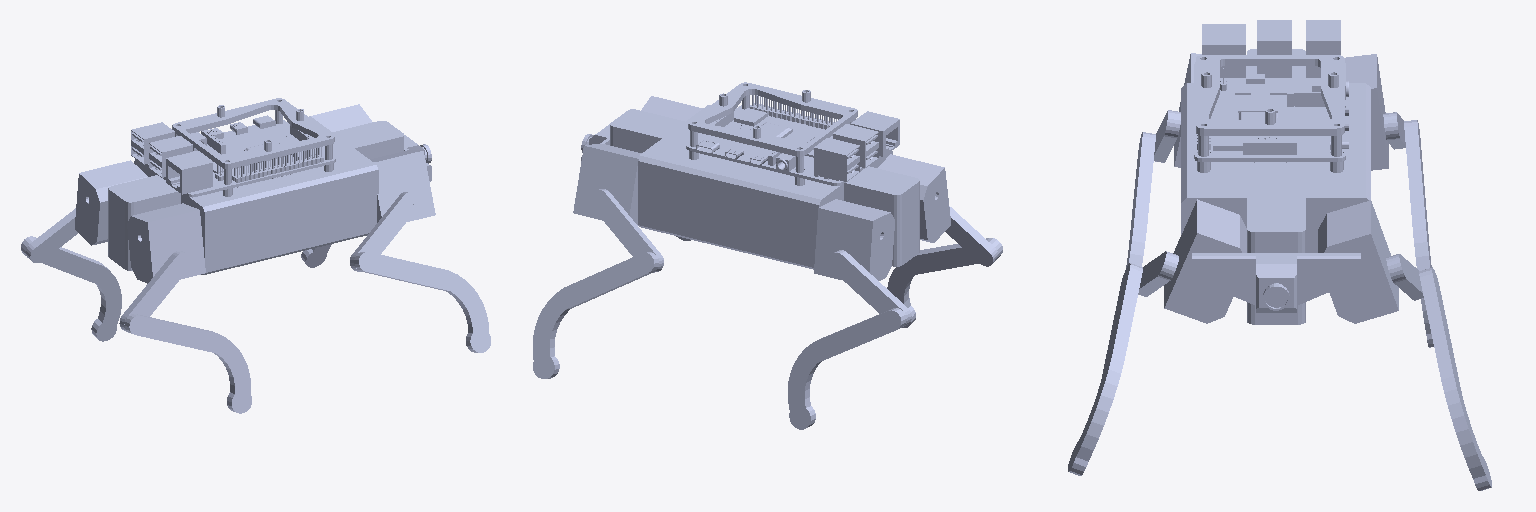
URDF robot description (assemblyURDF_sim_v3):
<?xml version="1.0" encoding="utf-8"?>
<!-- This URDF was automatically created by SolidWorks to URDF Exporter! Originally created by [author] ([email redacted]) 
     Commit Version: 1.6.0-4-g7f85cfe  Build Version: 1.6.7995.38578
     For more information, please see http://wiki.ros.org/sw_urdf_exporter -->
<robot
  name="assemblyURDF_sim_v3">
  <link
    name="base_link">
    <inertial>
      <origin
        xyz="-0.000611071768748985 0.00203532044672235 0.0265273092708457"
        rpy="0 0 0" />
      <mass
        value="0.382892713953797" />
      <inertia
        ixx="0.000156565489281089"
        ixy="-1.32820000526297E-08"
        ixz="7.17644779222563E-08"
        iyy="0.00048093929718436"
        iyz="2.35566435641254E-08"
        izz="0.000561518702693004" />
    </inertial>
    <visual>
      <origin
        xyz="0 0 0"
        rpy="0 0 0" />
      <geometry>
        <mesh
          filename="package://robot_model/meshes/base_link.STL" />
      </geometry>
      <material
        name="">
        <color
          rgba="0.792156862745098 0.819607843137255 0.933333333333333 1" />
      </material>
    </visual>
    <collision>
      <origin
        xyz="0 0 0"
        rpy="0 0 0" />
      <geometry>
        <mesh
          filename="package://robot_model/meshes/base_link.STL" />
      </geometry>
    </collision>
  </link>
  <link
    name="servo_1_link">
    <inertial>
      <origin
        xyz="0.015 -0.00663800305531337 -0.000639346575707883"
        rpy="0 0 0" />
      <mass
        value="0.020715840734641" />
      <inertia
        ixx="2.6167090766202E-06"
        ixy="-3.99388019611031E-22"
        ixz="-1.93943886813963E-22"
        iyy="2.36925699275785E-06"
        iyz="6.93288358194387E-09"
        izz="3.34552907980387E-06" />
    </inertial>
    <visual>
      <origin
        xyz="0 0 0"
        rpy="0 0 0" />
      <geometry>
        <mesh
          filename="package://robot_model/meshes/servo_1_link.STL" />
      </geometry>
      <material
        name="">
        <color
          rgba="0.792156862745098 0.819607843137255 0.933333333333333 1" />
      </material>
    </visual>
    <collision>
      <origin
        xyz="0 0 0"
        rpy="0 0 0" />
      <geometry>
        <mesh
          filename="package://robot_model/meshes/servo_1_link.STL" />
      </geometry>
    </collision>
  </link>
  <joint
    name="servo_1_joint"
    type="continuous">
    <origin
      xyz="0.0492951218109149 -0.0235467065517865 0.024"
      rpy="1.19325088290338 0 0" />
    <parent
      link="base_link" />
    <child
      link="servo_1_link" />
    <axis
      xyz="1 0 0" />
  </joint>
  <link
    name="leg_1_link">
    <inertial>
      <origin
        xyz="-0.02 -6.78276879106932E-14 0.0153039721883448"
        rpy="0 0 0" />
      <mass
        value="0.00226703537555513" />
      <inertia
        ixx="2.37183625868799E-08"
        ixy="-1.32288017515401E-18"
        ixz="8.31316515615793E-23"
        iyy="4.13865846142266E-07"
        iyz="-6.61744490042422E-24"
        izz="4.28138227997666E-07" />
    </inertial>
    <visual>
      <origin
        xyz="0 0 0"
        rpy="0 0 0" />
      <geometry>
        <mesh
          filename="package://robot_model/meshes/leg_1_link.STL" />
      </geometry>
      <material
        name="">
        <color
          rgba="0.792156862745098 0.819607843137255 0.933333333333333 1" />
      </material>
    </visual>
    <collision>
      <origin
        xyz="0 0 0"
        rpy="0 0 0" />
      <geometry>
        <mesh
          filename="package://robot_model/meshes/leg_1_link.STL" />
      </geometry>
    </collision>
  </link>
  <joint
    name="leg_2_joint"
    type="continuous">
    <origin
      xyz="0.015 -0.013 -0.00280397218834483"
      rpy="0 0 0.625000267634323" />
    <parent
      link="servo_1_link" />
    <child
      link="leg_1_link" />
    <axis
      xyz="0 0 -1" />
  </joint>
  <link
    name="foot_1_link">
    <inertial>
      <origin
        xyz="0.0396009603573879 0.00562254465841069 -0.0302219540967466"
        rpy="0 0 0" />
      <mass
        value="0.00466853888839397" />
      <inertia
        ixx="4.20913564361034E-07"
        ixy="-7.492517540195E-07"
        ixz="1.24410086133859E-08"
        iyy="2.75704387624934E-06"
        iyz="1.76637449933399E-09"
        izz="3.15540588393019E-06" />
    </inertial>
    <visual>
      <origin
        xyz="0 0 0"
        rpy="0 0 0" />
      <geometry>
        <mesh
          filename="package://robot_model/meshes/foot_1_link.STL" />
      </geometry>
      <material
        name="">
        <color
          rgba="0.792156862745098 0.819607843137255 0.933333333333333 1" />
      </material>
    </visual>
    <collision>
      <origin
        xyz="0 0 0"
        rpy="0 0 0" />
      <geometry>
        <mesh
          filename="package://robot_model/meshes/foot_1_link.STL" />
      </geometry>
    </collision>
  </link>
  <joint
    name="foot_1_joint"
    type="continuous">
    <origin
      xyz="-0.04 0 -0.00998527475373712"
      rpy="3.14159265358979 0 -1.04037357500652" />
    <parent
      link="leg_1_link" />
    <child
      link="foot_1_link" />
    <axis
      xyz="0 0 1" />
  </joint>
  <link
    name="servo_2_link">
    <inertial>
      <origin
        xyz="-0.015 -0.00663800305531345 -0.000639346575707883"
        rpy="0 0 0" />
      <mass
        value="0.020715840734641" />
      <inertia
        ixx="2.6167090766202E-06"
        ixy="2.97650390182204E-22"
        ixz="-5.69866571425958E-23"
        iyy="2.36925699275785E-06"
        iyz="6.93288358194493E-09"
        izz="3.34552907980387E-06" />
    </inertial>
    <visual>
      <origin
        xyz="0 0 0"
        rpy="0 0 0" />
      <geometry>
        <mesh
          filename="package://robot_model/meshes/servo_2_link.STL" />
      </geometry>
      <material
        name="">
        <color
          rgba="0.792156862745098 0.819607843137255 0.933333333333333 1" />
      </material>
    </visual>
    <collision>
      <origin
        xyz="0 0 0"
        rpy="0 0 0" />
      <geometry>
        <mesh
          filename="package://robot_model/meshes/servo_2_link.STL" />
      </geometry>
    </collision>
  </link>
  <joint
    name="servo_2_joint"
    type="continuous">
    <origin
      xyz="-0.0507048781890851 -0.0235467065517864 0.024"
      rpy="1.38644147063987 0 0" />
    <parent
      link="base_link" />
    <child
      link="servo_2_link" />
    <axis
      xyz="1 0 0" />
  </joint>
  <link
    name="leg_2_link">
    <inertial>
      <origin
        xyz="-0.0199999999999991 -2.4980018054066E-16 0.00951738563424648"
        rpy="0 0 0" />
      <mass
        value="0.00226703537555513" />
      <inertia
        ixx="2.37183625868801E-08"
        ixy="2.24993126614424E-22"
        ixz="-1.55923545466246E-22"
        iyy="4.13865846142267E-07"
        iyz="-1.32348898008484E-23"
        izz="4.28138227997667E-07" />
    </inertial>
    <visual>
      <origin
        xyz="0 0 0"
        rpy="0 0 0" />
      <geometry>
        <mesh
          filename="package://robot_model/meshes/leg_2_link.STL" />
      </geometry>
      <material
        name="">
        <color
          rgba="0.792156862745098 0.819607843137255 0.933333333333333 1" />
      </material>
    </visual>
    <collision>
      <origin
        xyz="0 0 0"
        rpy="0 0 0" />
      <geometry>
        <mesh
          filename="package://robot_model/meshes/leg_2_link.STL" />
      </geometry>
    </collision>
  </link>
  <joint
    name="leg_2_joint"
    type="continuous">
    <origin
      xyz="-0.015 -0.013 0.00298261436575352"
      rpy="0 0 0.671619943025242" />
    <parent
      link="servo_2_link" />
    <child
      link="leg_2_link" />
    <axis
      xyz="0 0 -1" />
  </joint>
  <link
    name="foot_2_link">
    <inertial>
      <origin
        xyz="0.0396009603573874 0.00562254465841142 -0.0193641895132344"
        rpy="0 0 0" />
      <mass
        value="0.00466853888839397" />
      <inertia
        ixx="4.20913564361033E-07"
        ixy="-7.49251754019497E-07"
        ixz="1.24410086133866E-08"
        iyy="2.75704387624934E-06"
        iyz="1.76637449933423E-09"
        izz="3.15540588393019E-06" />
    </inertial>
    <visual>
      <origin
        xyz="0 0 0"
        rpy="0 0 0" />
      <geometry>
        <mesh
          filename="package://robot_model/meshes/foot_2_link.STL" />
      </geometry>
      <material
        name="">
        <color
          rgba="0.792156862745098 0.819607843137255 0.933333333333333 1" />
      </material>
    </visual>
    <collision>
      <origin
        xyz="0 0 0"
        rpy="0 0 0" />
      <geometry>
        <mesh
          filename="package://robot_model/meshes/foot_2_link.STL" />
      </geometry>
    </collision>
  </link>
  <joint
    name="foot_2_joint"
    type="continuous">
    <origin
      xyz="-0.0399999999999991 0 -0.0049140967243233"
      rpy="-3.14159265358979 0 -1.08209164870542" />
    <parent
      link="leg_2_link" />
    <child
      link="foot_2_link" />
    <axis
      xyz="0 0 1" />
  </joint>
  <link
    name="servo_3_link">
    <inertial>
      <origin
        xyz="0.015 -0.00663800305531345 -0.000639346575707883"
        rpy="0 0 0" />
      <mass
        value="0.020715840734641" />
      <inertia
        ixx="2.61670907662019E-06"
        ixy="1.27674811281399E-22"
        ixz="9.63597929477141E-23"
        iyy="2.36925699275785E-06"
        iyz="6.9328835819444E-09"
        izz="3.34552907980387E-06" />
    </inertial>
    <visual>
      <origin
        xyz="0 0 0"
        rpy="0 0 0" />
      <geometry>
        <mesh
          filename="package://robot_model/meshes/servo_3_link.STL" />
      </geometry>
      <material
        name="">
        <color
          rgba="0.792156862745098 0.819607843137255 0.933333333333333 1" />
      </material>
    </visual>
    <collision>
      <origin
        xyz="0 0 0"
        rpy="0 0 0" />
      <geometry>
        <mesh
          filename="package://robot_model/meshes/servo_3_link.STL" />
      </geometry>
    </collision>
  </link>
  <joint
    name="servo_3_joint"
    type="continuous">
    <origin
      xyz="-0.0507048781890851 0.0284532934482131 0.0240000000000004"
      rpy="1.43932790895367 0 3.14159265358979" />
    <parent
      link="base_link" />
    <child
      link="servo_3_link" />
    <axis
      xyz="-1 0 0" />
  </joint>
  <link
    name="leg_3_link">
    <inertial>
      <origin
        xyz="0.02 0 0.00241407702081536"
        rpy="0 0 0" />
      <mass
        value="0.00226703537555514" />
      <inertia
        ixx="2.37183625868801E-08"
        ixy="-1.41447884746568E-22"
        ixz="-4.508134338414E-23"
        iyy="4.13865846142267E-07"
        iyz="-1.32348898008484E-23"
        izz="4.28138227997668E-07" />
    </inertial>
    <visual>
      <origin
        xyz="0 0 0"
        rpy="0 0 0" />
      <geometry>
        <mesh
          filename="package://robot_model/meshes/leg_3_link.STL" />
      </geometry>
      <material
        name="">
        <color
          rgba="0.792156862745098 0.819607843137255 0.933333333333333 1" />
      </material>
    </visual>
    <collision>
      <origin
        xyz="0 0 0"
        rpy="0 0 0" />
      <geometry>
        <mesh
          filename="package://robot_model/meshes/leg_3_link.STL" />
      </geometry>
    </collision>
  </link>
  <joint
    name="leg_3_joint"
    type="continuous">
    <origin
      xyz="0.0149999999999994 -0.0129999999999998 0.0100859229791846"
      rpy="0 0 -0.524206506794894" />
    <parent
      link="servo_3_link" />
    <child
      link="leg_3_link" />
    <axis
      xyz="0 0 1" />
  </joint>
  <link
    name="foot_3_link">
    <inertial>
      <origin
        xyz="-0.0396009603573878 0.00562254465841165 -0.00734678417548039"
        rpy="0 0 0" />
      <mass
        value="0.00466853888839397" />
      <inertia
        ixx="4.20913564361034E-07"
        ixy="7.49251754019498E-07"
        ixz="-1.24410086133875E-08"
        iyy="2.75704387624934E-06"
        iyz="1.76637449933447E-09"
        izz="3.15540588393019E-06" />
    </inertial>
    <visual>
      <origin
        xyz="0 0 0"
        rpy="0 0 0" />
      <geometry>
        <mesh
          filename="package://robot_model/meshes/foot_3_link.STL" />
      </geometry>
      <material
        name="">
        <color
          rgba="0.792156862745098 0.819607843137255 0.933333333333333 1" />
      </material>
    </visual>
    <collision>
      <origin
        xyz="0 0 0"
        rpy="0 0 0" />
      <geometry>
        <mesh
          filename="package://robot_model/meshes/foot_3_link.STL" />
      </geometry>
    </collision>
  </link>
  <joint
    name="foot_3_joint"
    type="continuous">
    <origin
      xyz="0.04 0 0"
      rpy="-3.14159265358979 0 1.07982204879055" />
    <parent
      link="leg_3_link" />
    <child
      link="foot_3_link" />
    <axis
      xyz="0 0 -1" />
  </joint>
  <link
    name="servo_4_link">
    <inertial>
      <origin
        xyz="-0.015 -0.00663800305531342 -0.000639346575707883"
        rpy="0 0 0" />
      <mass
        value="0.020715840734641" />
      <inertia
        ixx="2.6167090766202E-06"
        ixy="-1.00112987012655E-22"
        ixz="1.60304903991326E-22"
        iyy="2.36925699275786E-06"
        iyz="6.93288358194414E-09"
        izz="3.34552907980387E-06" />
    </inertial>
    <visual>
      <origin
        xyz="0 0 0"
        rpy="0 0 0" />
      <geometry>
        <mesh
          filename="package://robot_model/meshes/servo_4_link.STL" />
      </geometry>
      <material
        name="">
        <color
          rgba="0.792156862745098 0.819607843137255 0.933333333333333 1" />
      </material>
    </visual>
    <collision>
      <origin
        xyz="0 0 0"
        rpy="0 0 0" />
      <geometry>
        <mesh
          filename="package://robot_model/meshes/servo_4_link.STL" />
      </geometry>
    </collision>
  </link>
  <joint
    name="servo_4_joints"
    type="continuous">
    <origin
      xyz="0.0492951218109149 0.0284532934482133 0.0239999999999998"
      rpy="1.2521204794546 0 3.14159265358979" />
    <parent
      link="base_link" />
    <child
      link="servo_4_link" />
    <axis
      xyz="-1 0 0" />
  </joint>
  <link
    name="leg_4_link">
    <inertial>
      <origin
        xyz="0.02 0 0.00200918624785887"
        rpy="0 0 0" />
      <mass
        value="0.00226703537555514" />
      <inertia
        ixx="2.37183625868801E-08"
        ixy="5.70754622661589E-23"
        ixz="1.62954580672946E-22"
        iyy="4.13865846142267E-07"
        iyz="-6.61744490042422E-24"
        izz="4.28138227997667E-07" />
    </inertial>
    <visual>
      <origin
        xyz="0 0 0"
        rpy="0 0 0" />
      <geometry>
        <mesh
          filename="package://robot_model/meshes/leg_4_link.STL" />
      </geometry>
      <material
        name="">
        <color
          rgba="0.792156862745098 0.819607843137255 0.933333333333333 1" />
      </material>
    </visual>
    <collision>
      <origin
        xyz="0 0 0"
        rpy="0 0 0" />
      <geometry>
        <mesh
          filename="package://robot_model/meshes/leg_4_link.STL" />
      </geometry>
    </collision>
  </link>
  <joint
    name="leg_4_joint"
    type="continuous">
    <origin
      xyz="-0.0150000000000001 -0.013 0.0104908137521414"
      rpy="0 0 -0.625428082238554" />
    <parent
      link="servo_4_link" />
    <child
      link="leg_4_link" />
    <axis
      xyz="0 0 1" />
  </joint>
  <link
    name="foot_4_link">
    <inertial>
      <origin
        xyz="-0.0396009603573879 0.00562254465841092 -0.00694189340252346"
        rpy="0 0 0" />
      <mass
        value="0.00466853888839397" />
      <inertia
        ixx="4.20913564361033E-07"
        ixy="7.49251754019498E-07"
        ixz="-1.24410086133882E-08"
        iyy="2.75704387624934E-06"
        iyz="1.76637449933426E-09"
        izz="3.15540588393019E-06" />
    </inertial>
    <visual>
      <origin
        xyz="0 0 0"
        rpy="0 0 0" />
      <geometry>
        <mesh
          filename="package://robot_model/meshes/foot_4_link.STL" />
      </geometry>
      <material
        name="">
        <color
          rgba="0.792156862745098 0.819607843137255 0.933333333333333 1" />
      </material>
    </visual>
    <collision>
      <origin
        xyz="0 0 0"
        rpy="0 0 0" />
      <geometry>
        <mesh
          filename="package://robot_model/meshes/foot_4_link.STL" />
      </geometry>
    </collision>
  </link>
  <joint
    name="foot_4_joint"
    type="continuous">
    <origin
      xyz="0.04 0 0"
      rpy="-3.14159265358979 0 1.20568652407404" />
    <parent
      link="leg_4_link" />
    <child
      link="foot_4_link" />
    <axis
      xyz="0 0 -1" />
  </joint>
</robot>

--- Render facts (derived) ---
Views: 3 orthographic renders of the robot side by side, from view 1: azimuth 30°, elevation 25°; view 2: azimuth 150°, elevation 25°; view 3: azimuth 270°, elevation 25°.
Model assemblyURDF_sim_v3 with 13 links and 12 joints (12 continuous), rooted at base_link, posed all joints at 0.
Visible links, largest first — view 1: base_link, servo_2_link, foot_1_link, foot_2_link, servo_3_link, servo_1_link, foot_3_link, leg_2_link, leg_1_link, leg_3_link, servo_4_link; view 2: base_link, servo_3_link, foot_4_link, foot_3_link, servo_4_link, servo_2_link, foot_2_link, leg_3_link, leg_4_link, leg_2_link, servo_1_link; view 3: base_link, servo_4_link, servo_1_link, foot_1_link, foot_4_link, foot_3_link, servo_3_link, foot_2_link, leg_1_link, leg_4_link, leg_2_link, leg_3_link.
Boxes of the visible links, <box> form: base_link: <box>108,98,431,274</box>; servo_2_link: <box>127,203,205,283</box>; foot_1_link: <box>354,252,490,352</box>; foot_2_link: <box>124,314,251,413</box>; servo_3_link: <box>75,160,147,245</box>; servo_1_link: <box>370,150,435,222</box>; foot_3_link: <box>21,236,121,341</box>; leg_2_link: <box>119,251,191,332</box>; leg_1_link: <box>350,192,419,271</box>; leg_3_link: <box>25,208,77,262</box>; servo_4_link: <box>311,104,371,131</box>; base_link: <box>581,82,919,269</box>; servo_3_link: <box>814,199,894,280</box>; foot_4_link: <box>533,252,658,378</box>; foot_3_link: <box>788,308,906,429</box>; servo_4_link: <box>573,143,641,224</box>; servo_2_link: <box>878,154,950,242</box>; foot_2_link: <box>887,238,1002,327</box>; leg_3_link: <box>828,250,911,326</box>; leg_4_link: <box>590,189,663,272</box>; leg_2_link: <box>945,206,997,266</box>; servo_1_link: <box>641,96,702,121</box>; base_link: <box>1181,20,1370,324</box>; servo_4_link: <box>1318,200,1404,323</box>; servo_1_link: <box>1160,199,1246,323</box>; foot_1_link: <box>1068,263,1142,475</box>; foot_4_link: <box>1419,267,1491,490</box>; foot_3_link: <box>1404,120,1433,347</box>; servo_3_link: <box>1345,54,1398,170</box>; foot_2_link: <box>1126,132,1155,267</box>; leg_1_link: <box>1138,251,1178,296</box>; leg_4_link: <box>1386,254,1423,300</box>; leg_2_link: <box>1154,110,1180,162</box>; leg_3_link: <box>1383,112,1405,149</box>.
Size in the robot's own frame: 0.2033 by 0.1565 by 0.1323 metres.
Meshes: 13 distinct files referenced, 13 mesh visuals loaded (13 binary STL).